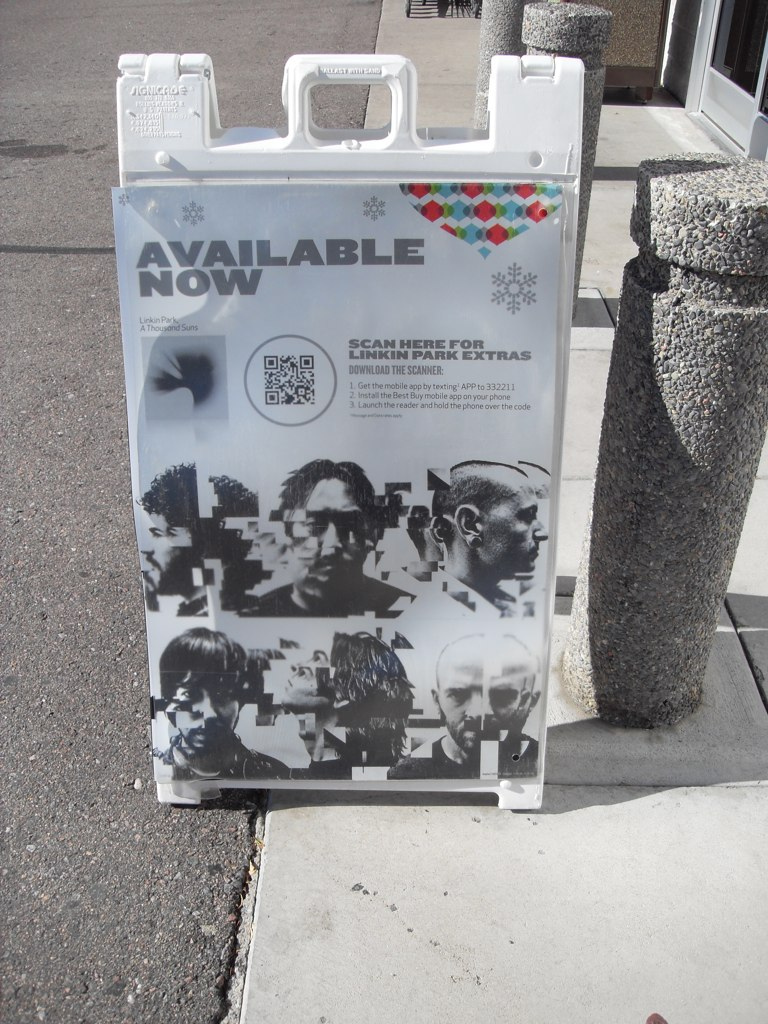QR-CODE: (264, 356, 314, 404)
